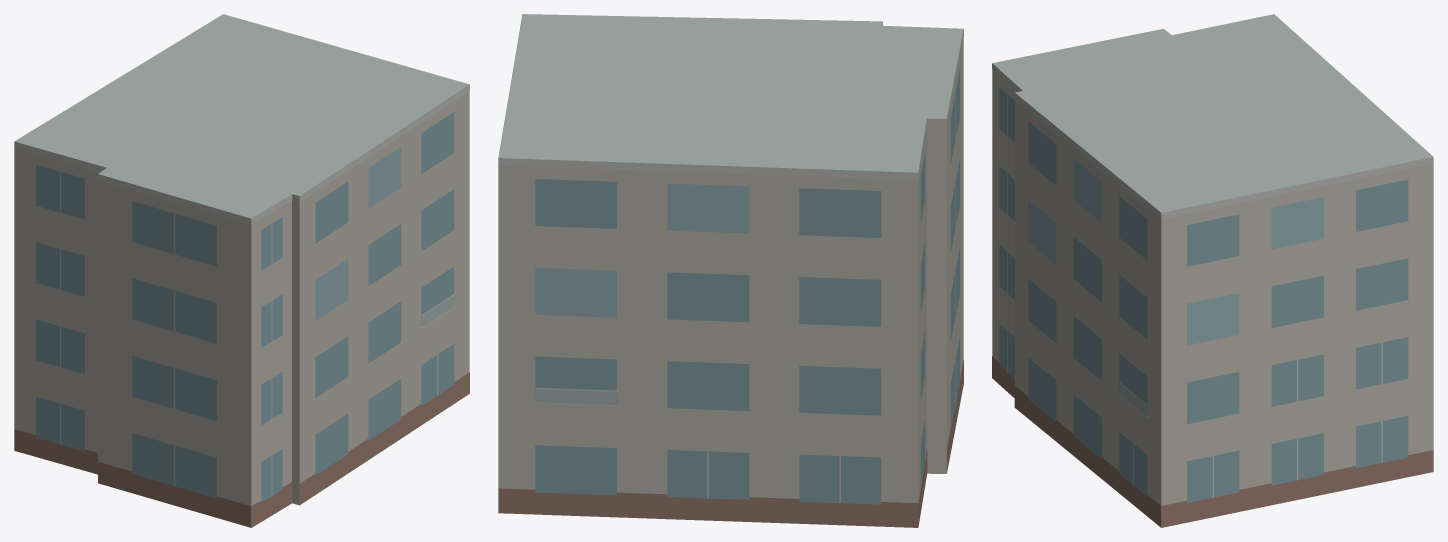
File: survey-upis-32748894.glb
The picture shows the model from 3 angles, left to right: view 1: azimuth 30°, elevation 25°; view 2: azimuth 150°, elevation 25°; view 3: azimuth 270°, elevation 25°; orthographic projection. The views are drawn at different scales.
Visible parts, largest first — view 1: survey-upis-32748894.tmp; view 2: survey-upis-32748894.tmp; view 3: survey-upis-32748894.tmp.
Part boxes in pixels (x1,y1,x2,y2): survey-upis-32748894.tmp: (14,14,469,527); survey-upis-32748894.tmp: (498,14,963,527); survey-upis-32748894.tmp: (992,14,1433,527).
Bounding box in the file's own units: 15.58 × 11.5 × 14.62.
